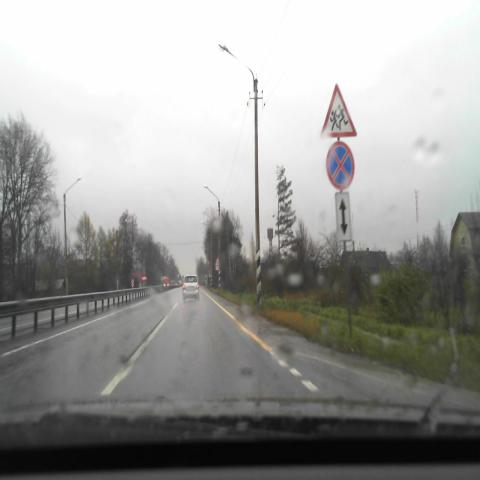8_2_4: (335, 193, 352, 240)
